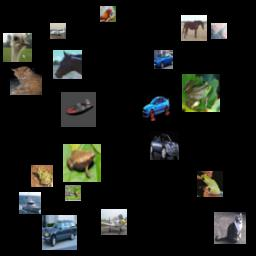airplane: (101, 209, 127, 235), (50, 23, 66, 39), (211, 23, 227, 39)
automobile: (42, 215, 77, 250), (150, 131, 179, 160), (142, 92, 171, 121), (154, 50, 173, 69)
bird: (3, 33, 32, 62), (100, 6, 116, 22)
cat: (214, 212, 246, 244), (10, 63, 42, 95)
deer: (65, 185, 81, 201)
frog: (63, 144, 101, 182), (182, 74, 220, 112), (197, 171, 223, 197), (31, 165, 53, 187)
ship: (61, 92, 96, 127), (19, 192, 41, 214)
